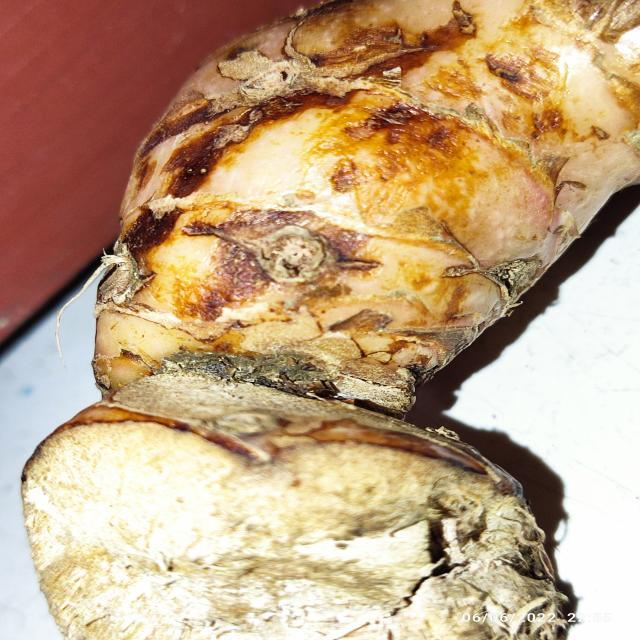ginger: (98, 14, 640, 640)
